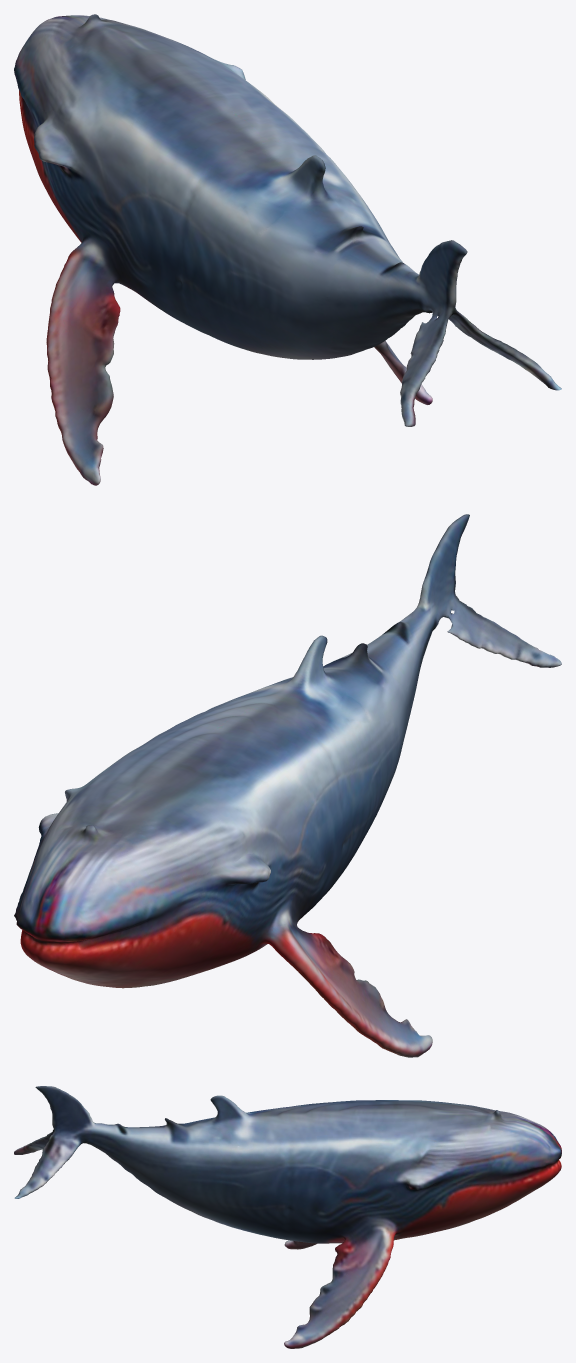
File: whale.glb
3 renders of one model, top to bottom at view 1: azimuth 30°, elevation 25°; view 2: azimuth 150°, elevation 25°; view 3: azimuth 270°, elevation 25°, orthographic. The views are drawn at different scales.
Visible parts, largest first — view 1: tripo_node_55194254-66a8-4d44-9107-8220ba36eab8; view 2: tripo_node_55194254-66a8-4d44-9107-8220ba36eab8; view 3: tripo_node_55194254-66a8-4d44-9107-8220ba36eab8.
Boxes of the visible parts, left/top/right/bottom form: tripo_node_55194254-66a8-4d44-9107-8220ba36eab8: left=14, top=14, right=561, bottom=485; tripo_node_55194254-66a8-4d44-9107-8220ba36eab8: left=14, top=514, right=561, bottom=1057; tripo_node_55194254-66a8-4d44-9107-8220ba36eab8: left=14, top=1086, right=561, bottom=1348.
Size of the model in its own units: 0.408 by 0.3968 by 0.9275.
Materials: 1 (1 with a texture image).
